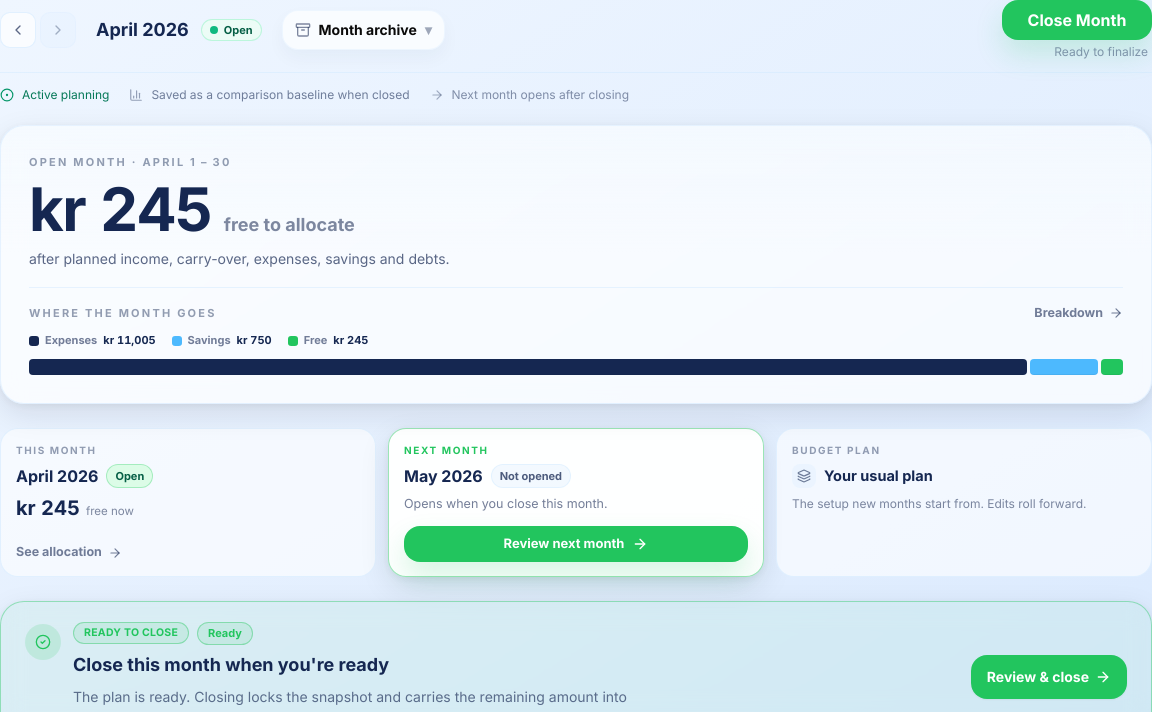
Test case: DashboardContent › shows two carry-over choices when there is a positive surplus
Click the button "Close Month" at point(1077, 20), box [1002, 0, 1151, 40]
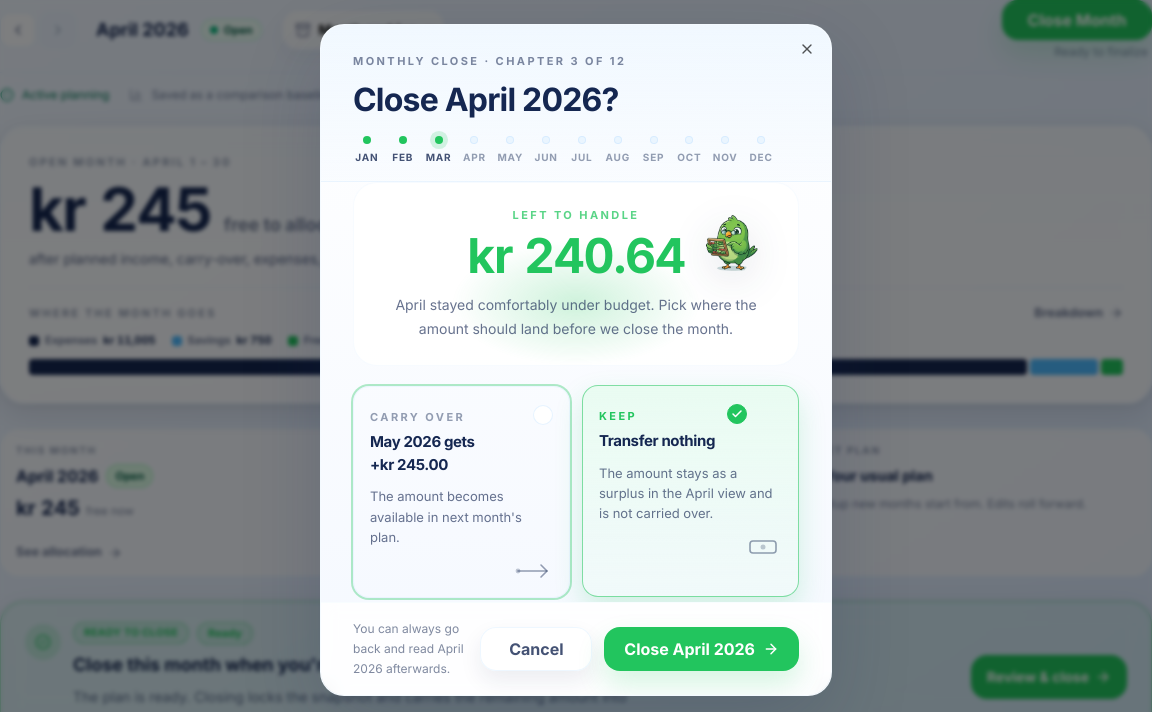
Now the radio button with test id "resolve-carry-over" shows "Carry over", box [353, 386, 570, 598]
Now the radio button with test id "resolve-carry-over" shows "May 2026", box [353, 386, 570, 598]
Now the radio button with test id "resolve-keep" shows "Keep", box [582, 385, 799, 597]
